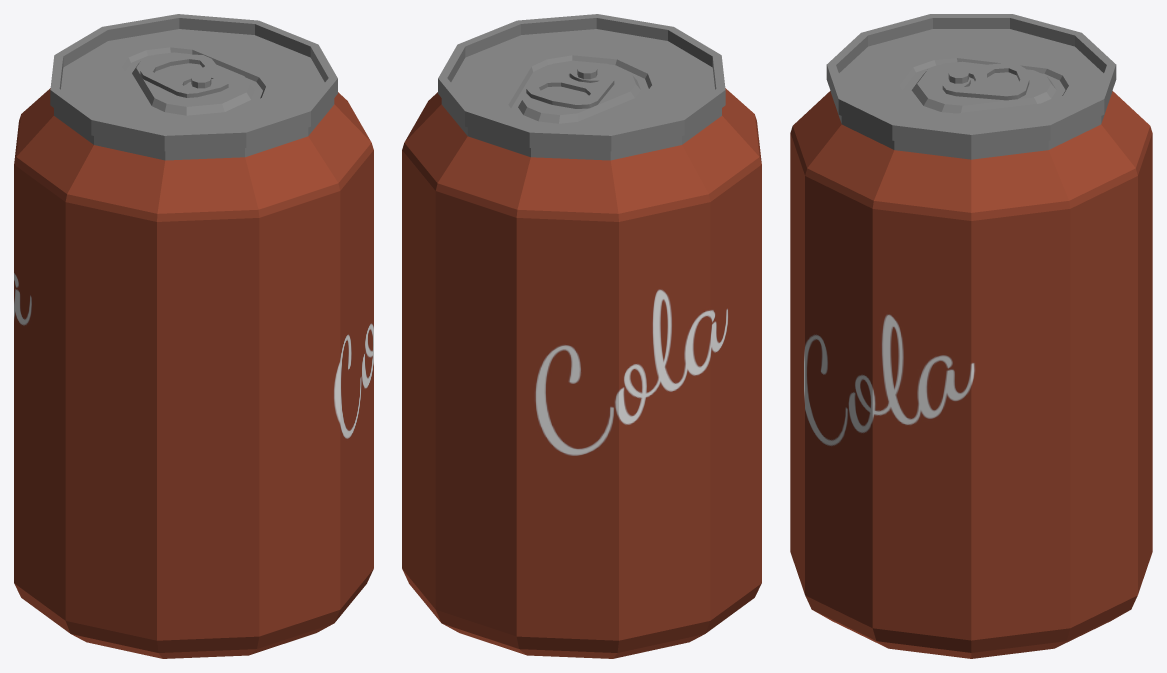
File: sodacan.fbx
The picture shows the model from 3 angles, left to right: view 1: azimuth 30°, elevation 25°; view 2: azimuth 150°, elevation 25°; view 3: azimuth 270°, elevation 25°; orthographic projection.
Visible parts, largest first — view 1: sodacan; view 2: sodacan; view 3: sodacan.
Part boxes in pixels (x1,y1,x2,y2): sodacan: [14, 14, 373, 658]; sodacan: [402, 14, 761, 658]; sodacan: [790, 14, 1152, 658].
Bounding box in the file's own units: 39.99 × 64.23 × 40.4.
Materials: 1 (1 with a texture image).
